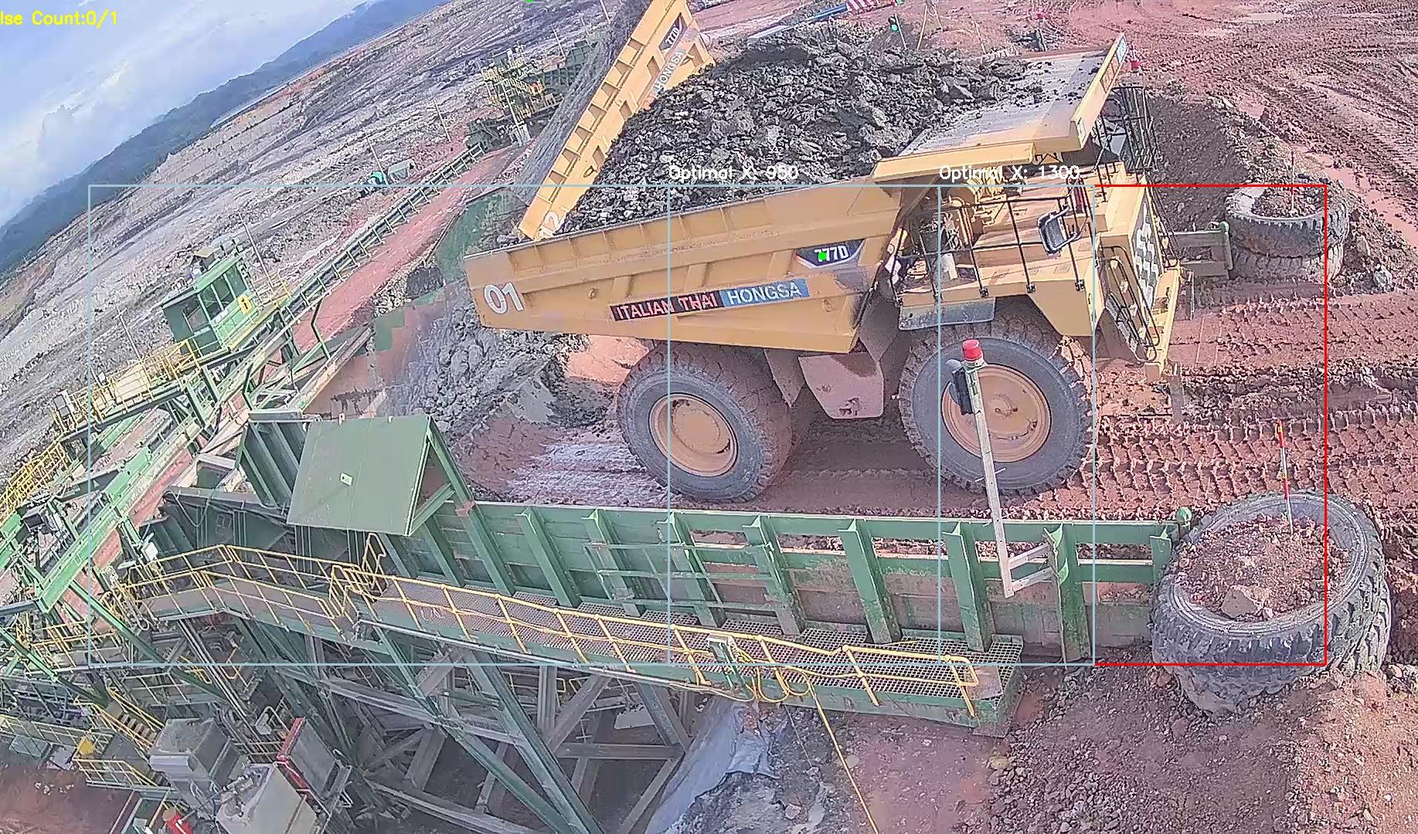company: (599, 272, 825, 331)
full_load: (602, 28, 946, 220)
mining_truck: (460, 20, 1209, 505)
tail_number: (471, 269, 532, 322)
truck_size: (794, 227, 869, 271)
